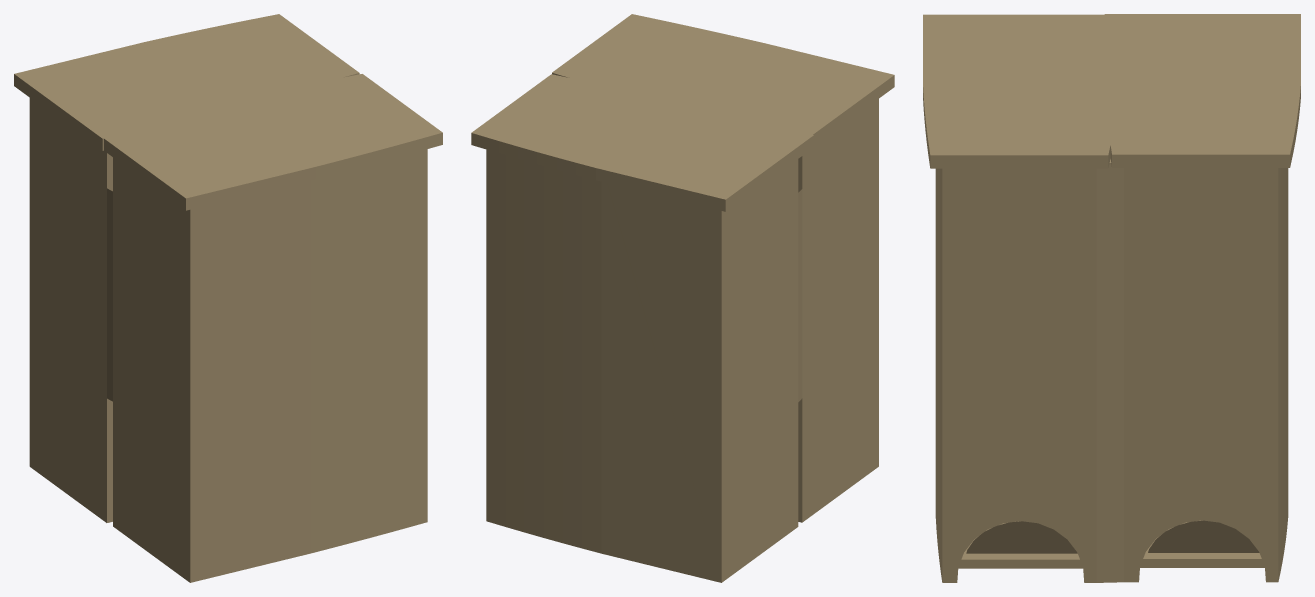
The picture shows the model from 3 angles, left to right: view 1: azimuth 30°, elevation 25°; view 2: azimuth 150°, elevation 25°; view 3: azimuth 270°, elevation 25°; orthographic projection. The views are drawn at different scales.
Visible parts, largest first — view 1: mesh2_mesh2-geometry; view 2: mesh2_mesh2-geometry; view 3: mesh2_mesh2-geometry.
Part boxes in pixels (box(x1,y1,x2,y2)): mesh2_mesh2-geometry: box(14, 14, 442, 582); mesh2_mesh2-geometry: box(471, 14, 894, 582); mesh2_mesh2-geometry: box(923, 14, 1300, 582).
Size of the model in its own units: 0.4811 by 0.6876 by 0.5438.
